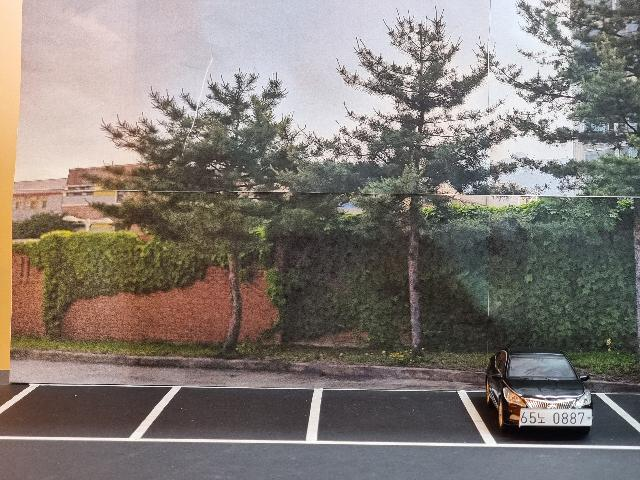empty: (304, 384, 492, 450), (138, 382, 318, 447), (1, 384, 159, 444)
occupied: (484, 347, 598, 439)
